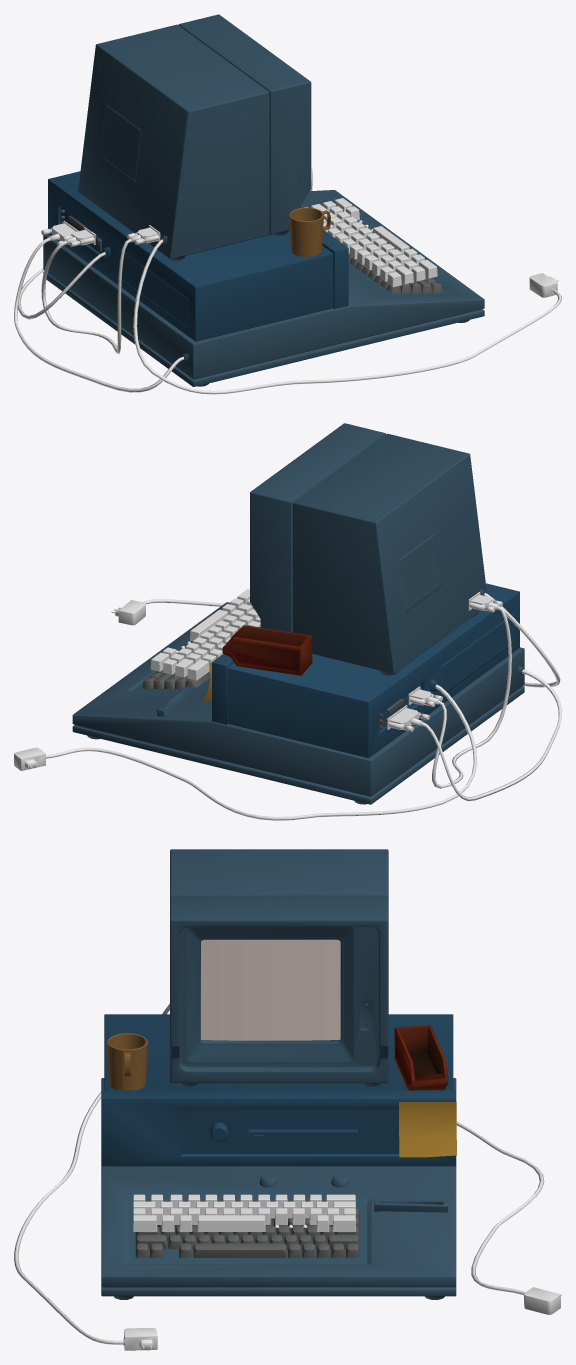
File: Computer.glb
3 views of the same model, one above another, from view 1: azimuth 30°, elevation 25°; view 2: azimuth 150°, elevation 25°; view 3: azimuth 270°, elevation 25° (orthographic). The views are drawn at different scales.
Visible parts, largest first — view 1: Computer, Teclado, Fio4, Fio2, Fio1, Copo, Keyboard, Fio3, Cube.001; view 2: Computer, Teclado, Container, Fio3, Fio2, Fio1, Fio4, Keyboard, Cube.000, Cube.001; view 3: Computer, Tela, Teclado, Keyboard, Bilhete, Container, Copo, Fio4, Fio3, Cube.000, Cube.001.
Part boxes in pixels (bbox=[...]): Computer: bbox=[43, 14, 484, 386]; Teclado: bbox=[304, 198, 437, 287]; Fio4: bbox=[133, 239, 561, 394]; Fio2: bbox=[41, 225, 160, 353]; Fio1: bbox=[14, 220, 184, 392]; Copo: bbox=[289, 207, 330, 256]; Keyboard: bbox=[348, 254, 442, 293]; Fio3: bbox=[18, 252, 105, 319]; Cube.001: bbox=[529, 273, 558, 297]; Computer: bbox=[72, 423, 524, 804]; Teclado: bbox=[150, 589, 260, 680]; Container: bbox=[222, 625, 312, 675]; Fio3: bbox=[46, 684, 477, 820]; Fio2: bbox=[408, 592, 511, 788]; Fio1: bbox=[387, 669, 561, 800]; Fio4: bbox=[142, 593, 560, 687]; Keyboard: bbox=[143, 669, 210, 688]; Cube.000: bbox=[14, 747, 45, 770]; Cube.001: bbox=[111, 600, 145, 625]; Computer: bbox=[101, 849, 456, 1299]; Tela: bbox=[201, 939, 340, 1040]; Teclado: bbox=[133, 1194, 355, 1231]; Keyboard: bbox=[135, 1208, 359, 1257]; Bilhete: bbox=[399, 1102, 456, 1157]; Container: bbox=[394, 1025, 448, 1090]; Copo: bbox=[107, 1033, 147, 1090]; Fio4: bbox=[14, 1003, 169, 1344]; Fio3: bbox=[456, 1121, 544, 1295]; Cube.000: bbox=[524, 1287, 561, 1314]; Cube.001: bbox=[123, 1327, 157, 1350].
Size of the model in its own units: 2.7 by 1.42 by 2.34.
